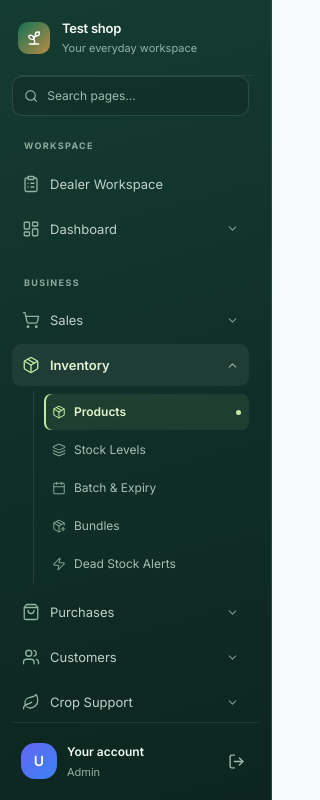
Test case: finds nested pages and restores navigation when search is cleared
In the field named "Search navigation": x=142, y=96 left=47, top=87, right=237, bottom=105, type "Forecasting"
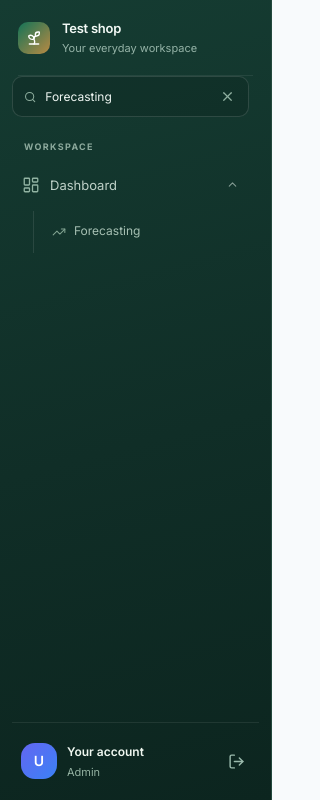
Check: the button "Forecasting" is shown, box left=44, top=214, right=249, bottom=250
Check: the button "Sales" is gone
Click the button named "Clear navigation search": x=228, y=96 left=218, top=87, right=237, bottom=106
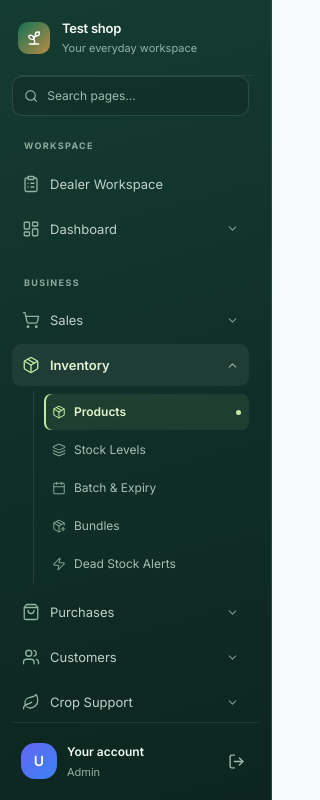
Check: the button "Sales" is shown, box left=12, top=299, right=249, bottom=341
